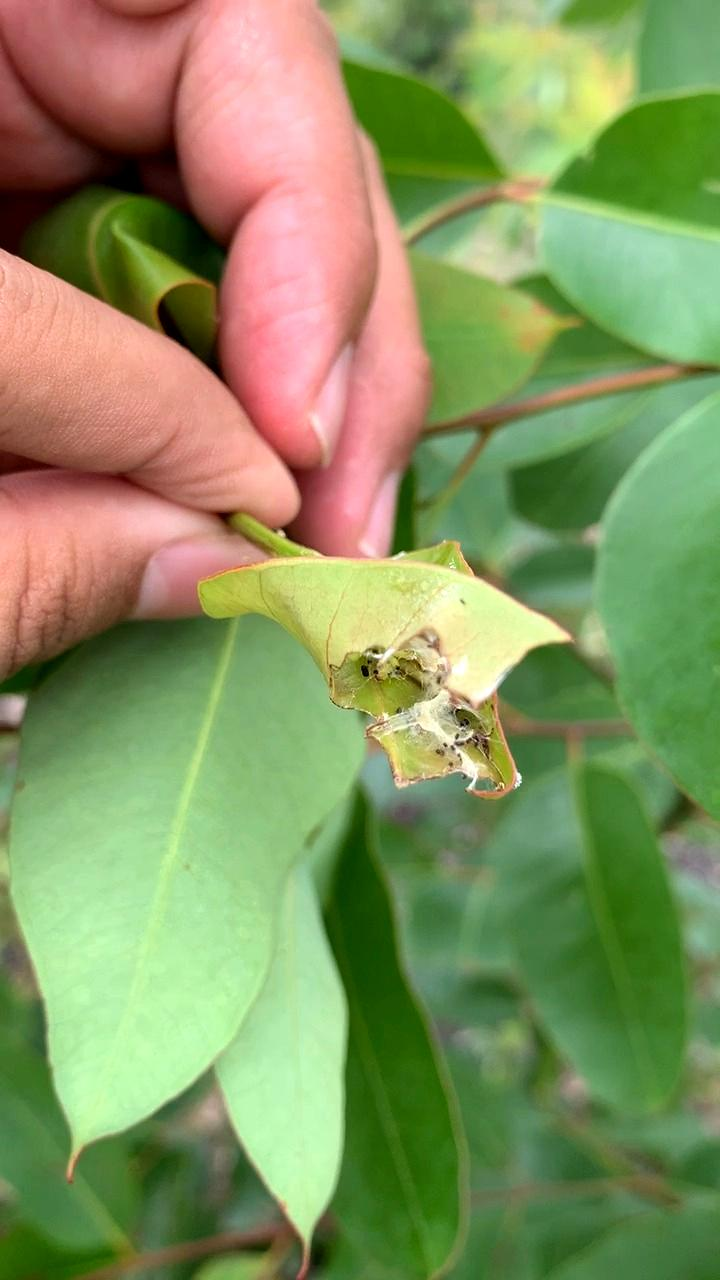Leaf Roller - Leaf: (175, 516, 620, 813)
